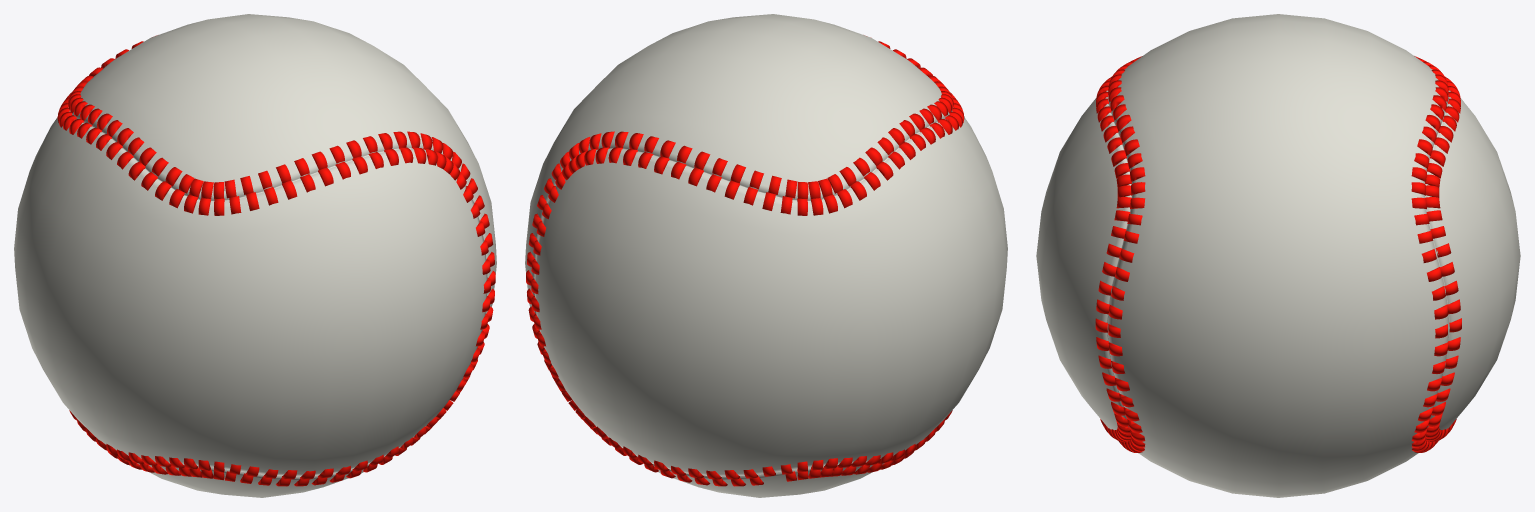
File: Ball.fbx
The picture shows the model from 3 angles, left to right: view 1: azimuth 30°, elevation 25°; view 2: azimuth 150°, elevation 25°; view 3: azimuth 270°, elevation 25°; orthographic projection.
Visible parts, largest first — view 1: Cube; view 2: Cube; view 3: Cube.
Part boxes in pixels (x1,y1,x2,y2): Cube: [14, 14, 496, 497]; Cube: [525, 14, 1007, 497]; Cube: [1036, 14, 1520, 497].
Bounding box in the file's own units: 0.2057 × 0.2057 × 0.2057.
